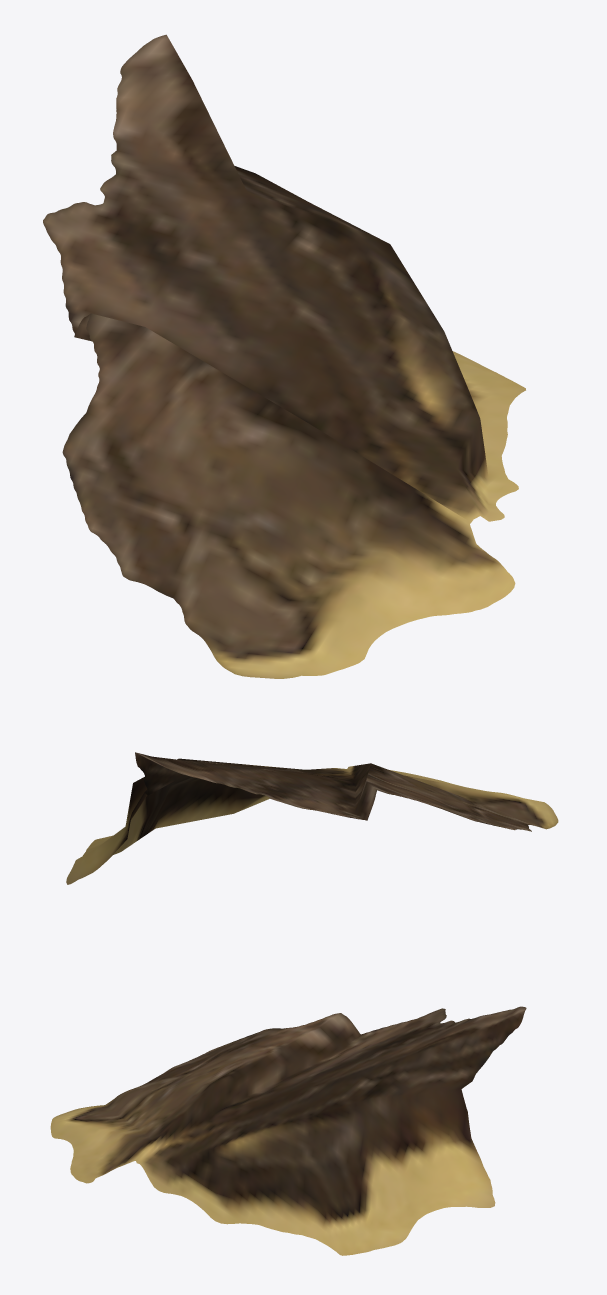
The model's file is rock_3_07.FBX.
3 views of the same model, one above another, from view 1: azimuth 30°, elevation 25°; view 2: azimuth 150°, elevation 25°; view 3: azimuth 270°, elevation 25° (orthographic). The views are drawn at different scales.
Visible parts, largest first — view 1: rock_3_07; view 2: rock_3_07; view 3: rock_3_07.
Part boxes in pixels (bbox=[...]): rock_3_07: bbox=[43, 34, 525, 678]; rock_3_07: bbox=[66, 752, 558, 884]; rock_3_07: bbox=[50, 1006, 526, 1255].
Bounding box in the file's own units: 183 × 97 × 250.
